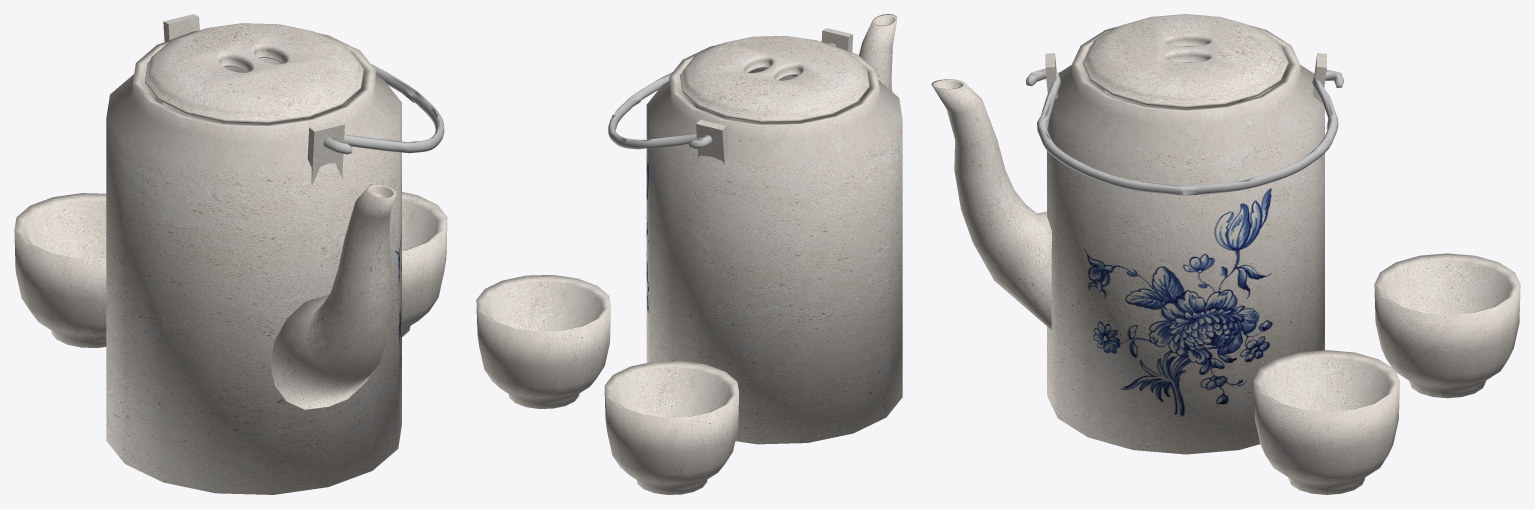
Rendered from amchen.fbx.
The picture shows the model from 3 angles, left to right: view 1: azimuth 30°, elevation 25°; view 2: azimuth 150°, elevation 25°; view 3: azimuth 270°, elevation 25°; orthographic projection. The views are drawn at different scales.
Parts seen in each view (by area): view 1: Am3, chen1, Chen2; view 2: Am3, Chen2, chen1; view 3: Am3, chen1, Chen2.
Part boxes in pixels (x1=…): Am3: x1=106, y1=14, x2=444, y2=494; chen1: x1=14, y1=193, x2=106, y2=347; Chen2: x1=402, y1=192, x2=447, y2=336; Am3: x1=608, y1=14, x2=902, y2=444; Chen2: x1=476, y1=275, x2=610, y2=408; chen1: x1=604, y1=361, x2=738, y2=494; Am3: x1=931, y1=14, x2=1343, y2=454; chen1: x1=1374, y1=253, x2=1520, y2=398; Chen2: x1=1253, y1=350, x2=1399, y2=494.
Bounding box in the file's own units: 39.23 × 36.02 × 55.34.
Materials: 5 (4 with a texture image).
